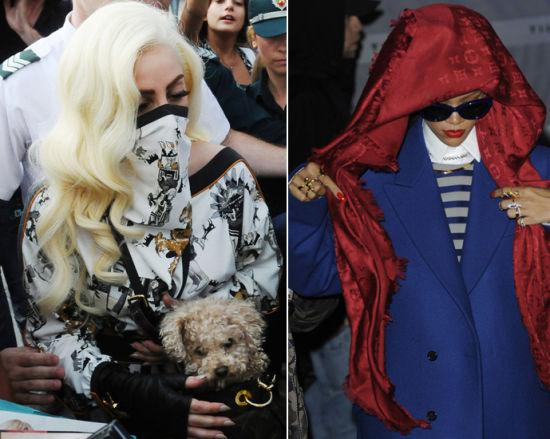NONE: (425, 85, 486, 148), (259, 28, 295, 76), (210, 1, 250, 33)
OK: (116, 72, 193, 167)
